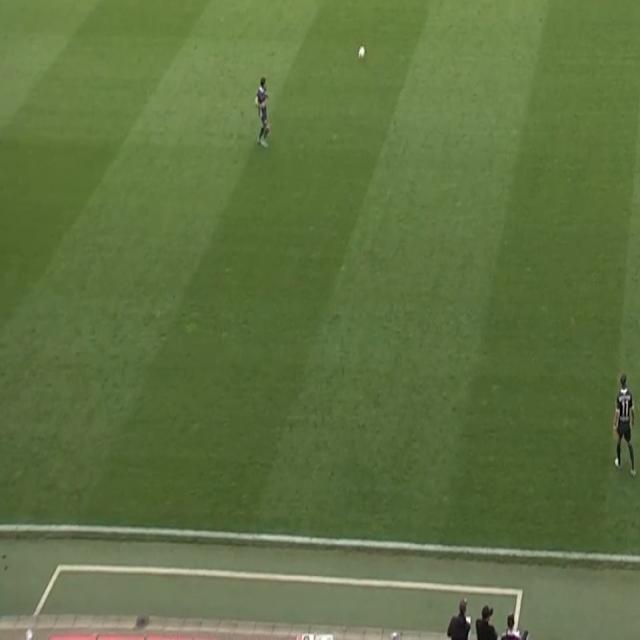ball: (358, 44, 366, 61)
